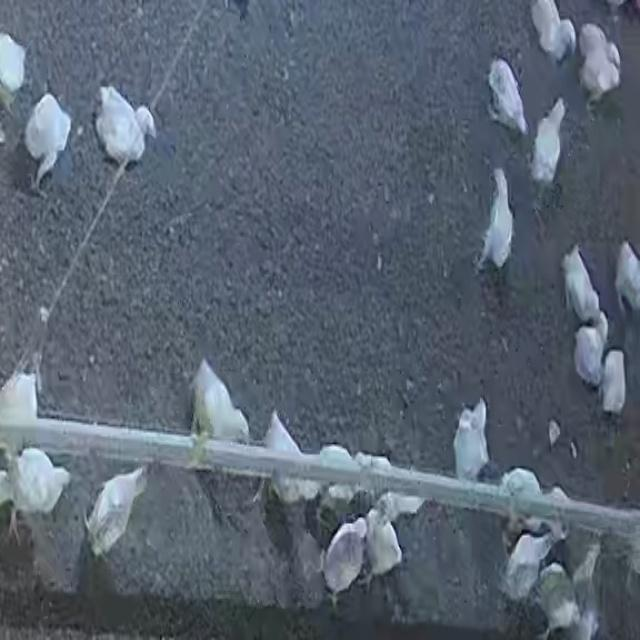chicken: (2, 446, 72, 543), (189, 356, 250, 466), (82, 466, 148, 558), (262, 412, 316, 506), (91, 87, 150, 163), (321, 515, 368, 604), (532, 564, 584, 638), (502, 529, 556, 600), (477, 170, 514, 272), (578, 23, 621, 108), (561, 244, 603, 331), (27, 99, 68, 184), (530, 98, 567, 188), (363, 505, 405, 583), (0, 370, 41, 449), (452, 400, 491, 482), (530, 0, 576, 65), (488, 58, 525, 136), (572, 320, 606, 390), (0, 33, 27, 106), (614, 241, 640, 316), (599, 348, 627, 416)
